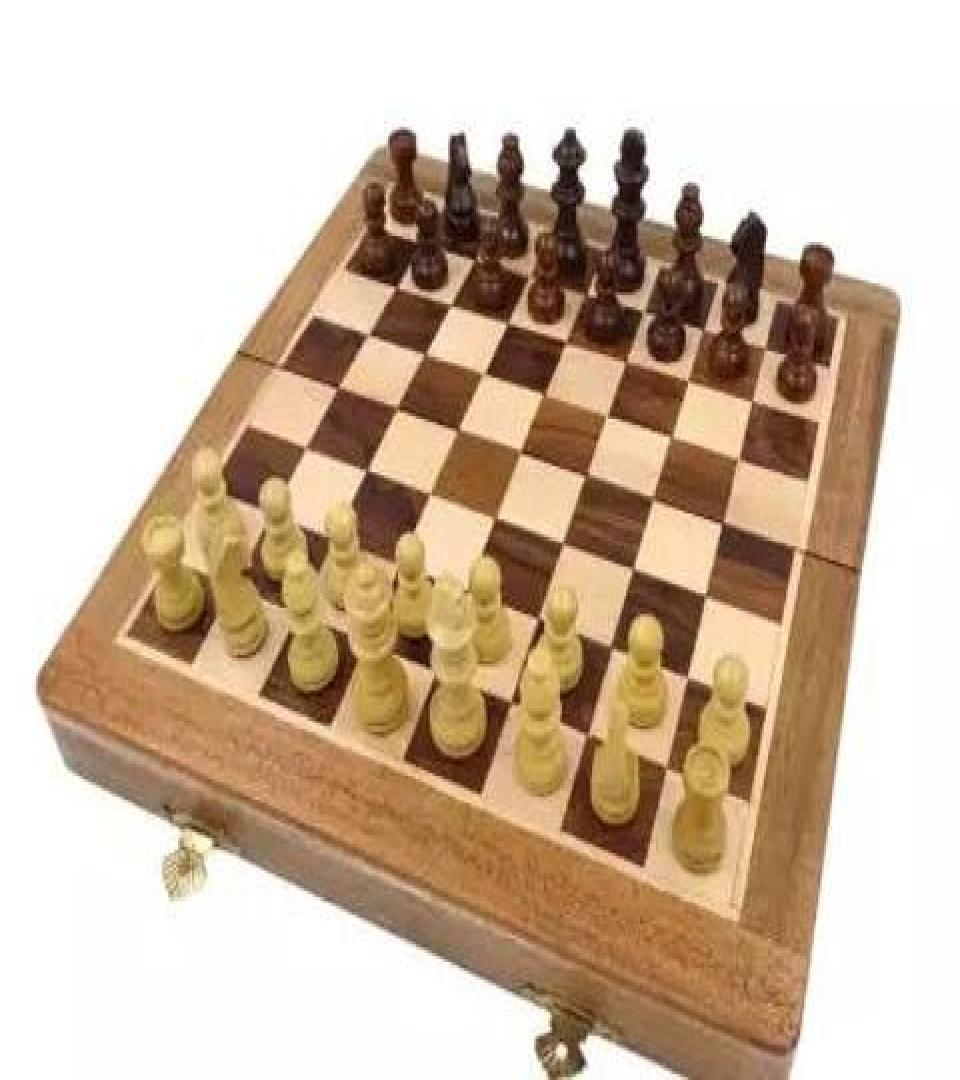xcorner: (386, 271, 406, 301), (358, 323, 378, 353), (295, 438, 315, 468), (260, 503, 280, 533), (221, 575, 241, 605), (416, 342, 436, 372), (324, 528, 344, 558), (288, 603, 308, 633), (421, 485, 441, 515), (357, 631, 377, 661), (558, 329, 578, 359), (537, 385, 557, 415), (513, 444, 533, 474), (488, 510, 508, 540), (428, 662, 448, 692), (556, 537, 576, 567), (502, 693, 522, 723), (681, 370, 701, 400), (664, 429, 684, 459), (604, 640, 624, 670), (731, 451, 751, 481), (699, 590, 719, 620), (659, 758, 679, 788), (411, 226, 431, 255), (328, 378, 348, 407), (465, 242, 485, 271), (442, 291, 462, 320), (388, 400, 408, 429), (357, 462, 377, 491), (521, 260, 541, 289), (499, 310, 519, 339), (475, 363, 495, 392), (450, 422, 470, 451), (391, 555, 411, 584), (578, 279, 598, 308), (459, 583, 479, 612), (637, 297, 657, 326), (619, 350, 639, 379), (600, 406, 620, 435), (579, 468, 599, 497), (530, 611, 550, 640), (697, 316, 717, 345), (646, 493, 666, 522), (626, 564, 646, 593), (579, 726, 599, 755), (759, 335, 779, 364), (746, 391, 766, 420), (716, 518, 736, 547), (680, 670, 700, 699)
